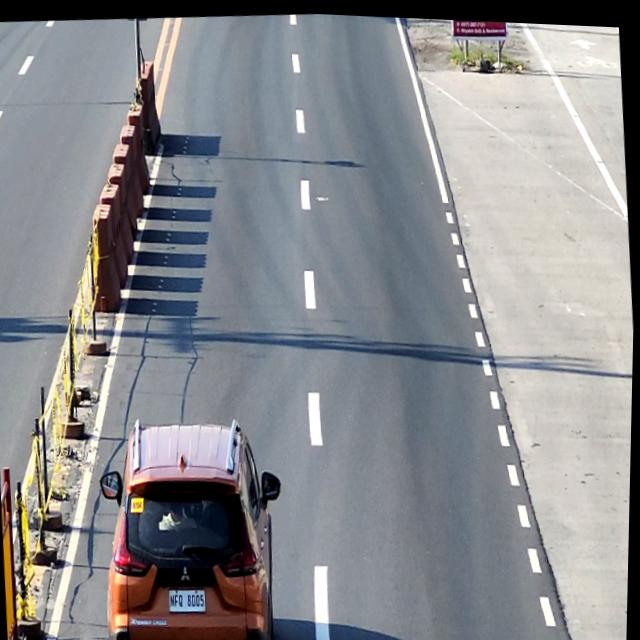Car: (93, 402, 295, 640)
License-Plate: (170, 584, 209, 613)
